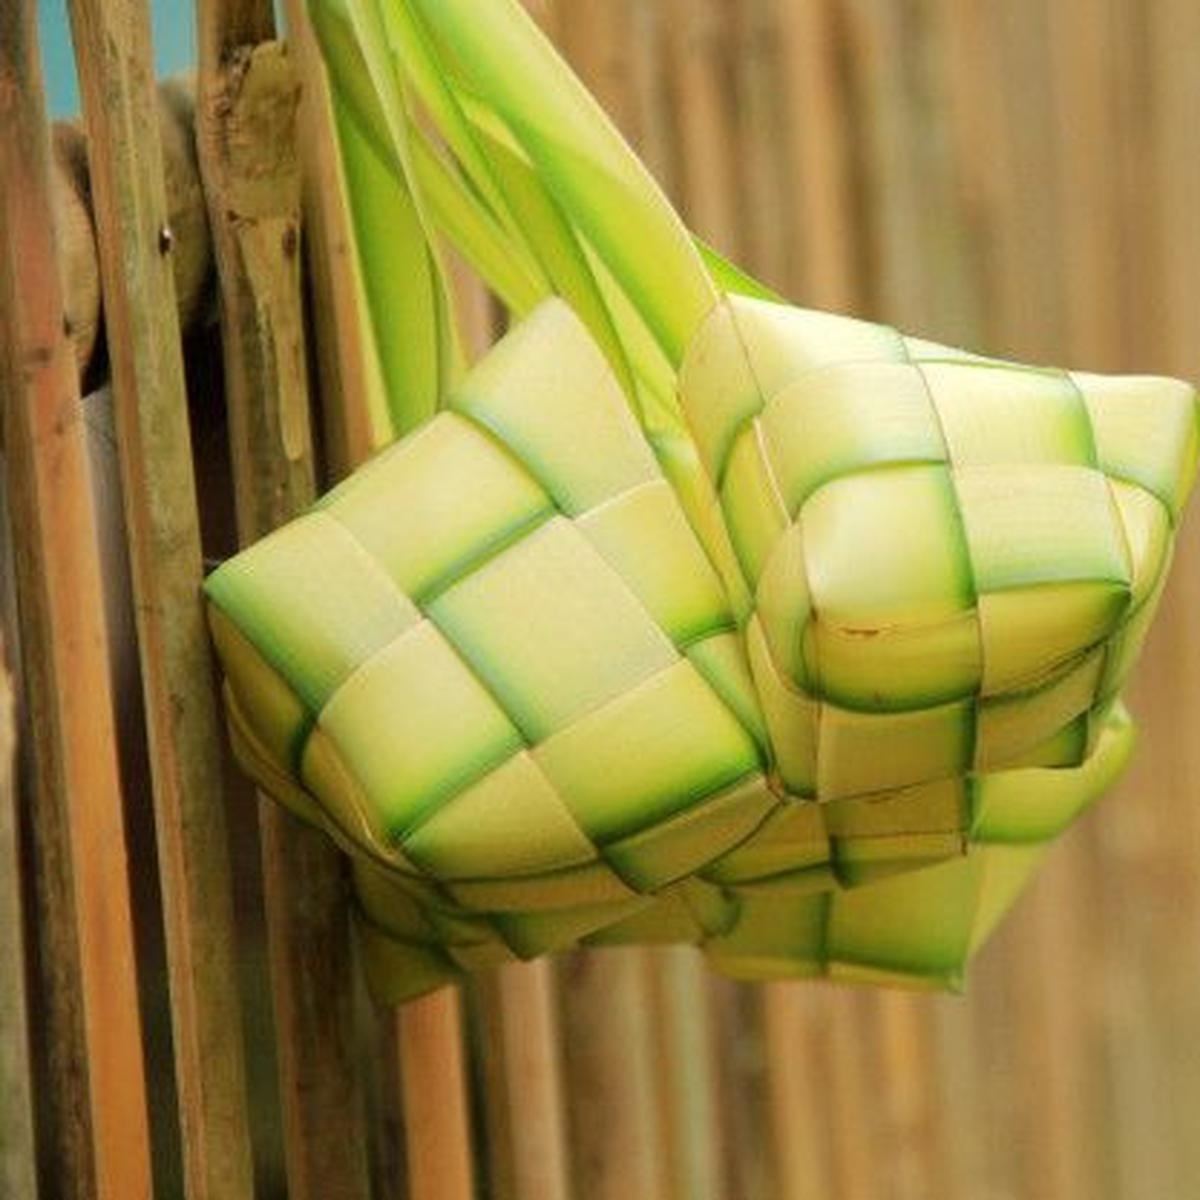ketupat: (200, 298, 776, 920), (663, 299, 1199, 805)
